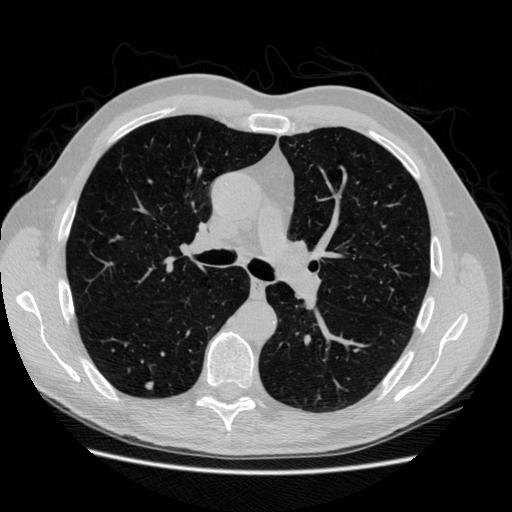nodule: (143, 379, 156, 392)
